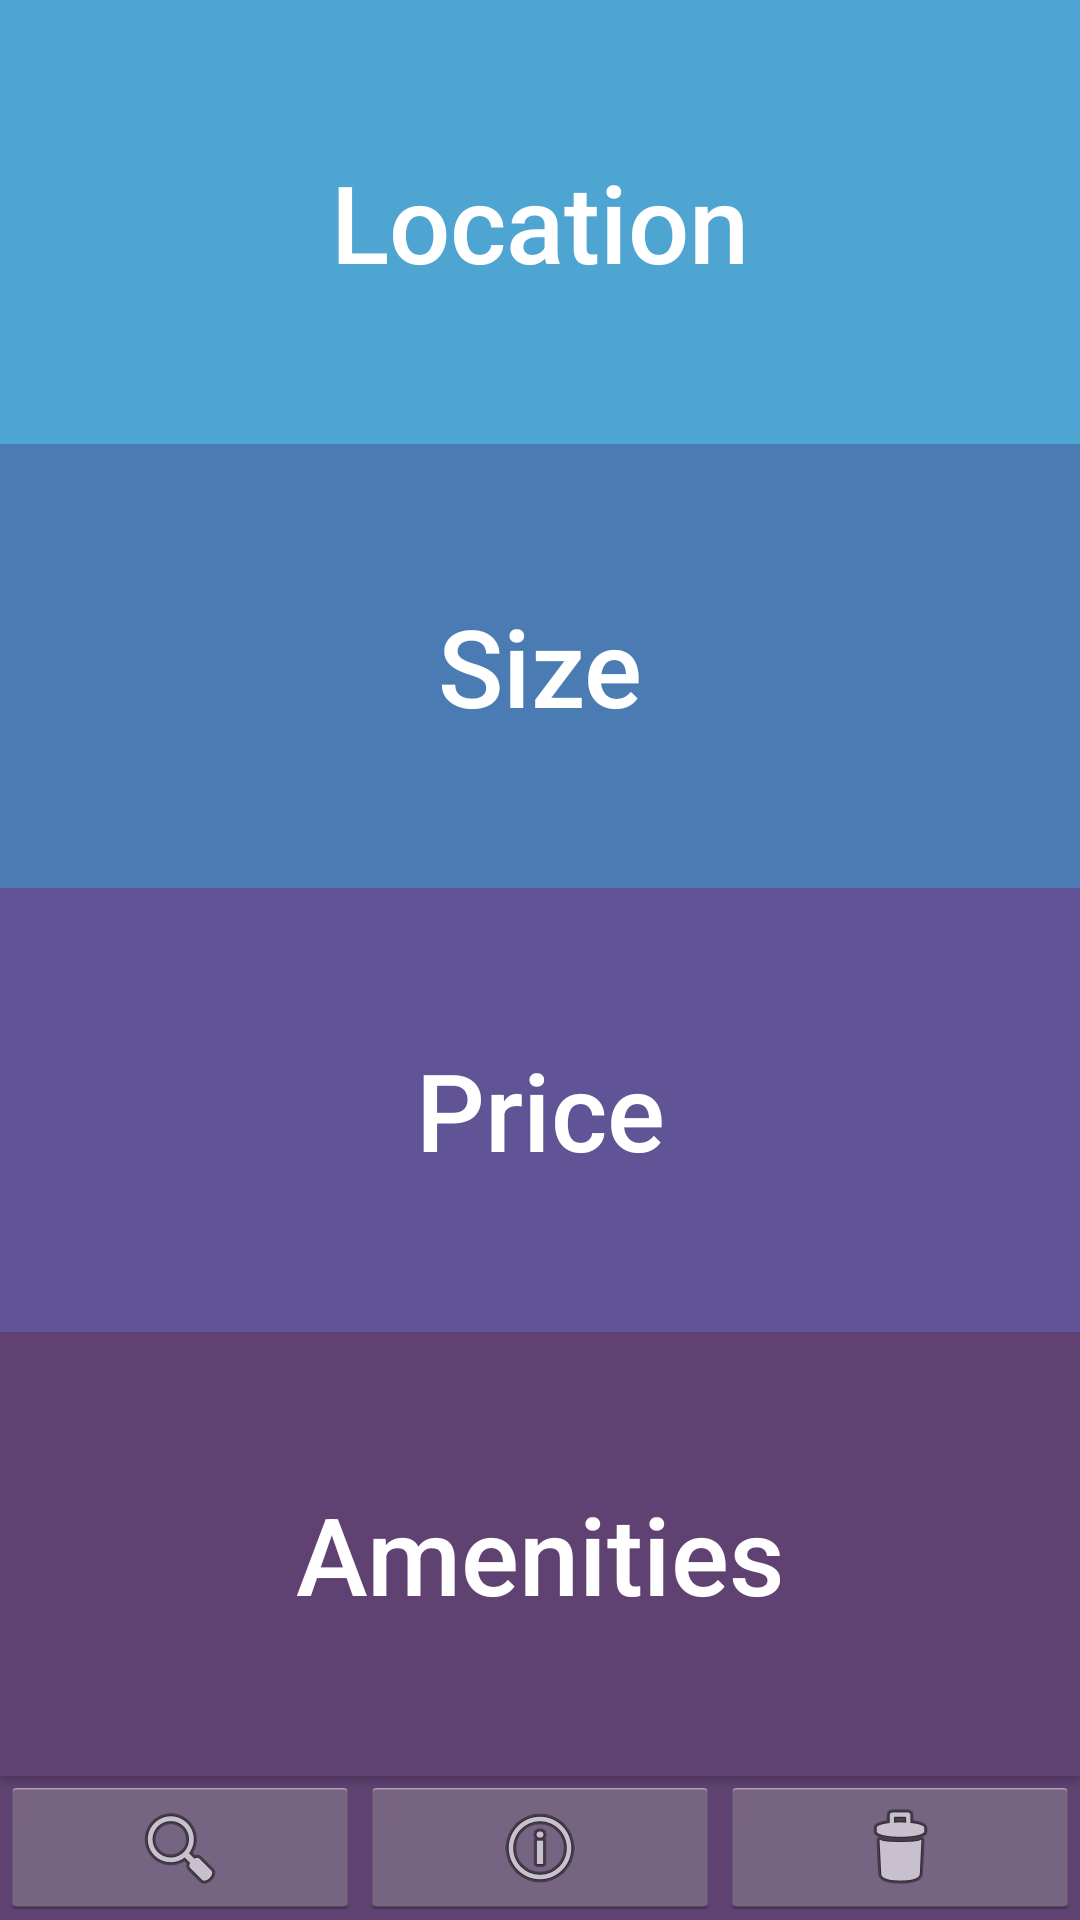

Icon click points for this 1080×1920 phone screenshot, format (x=x, y=y):
delete: (x=900, y=1848)
info details: (x=540, y=1848)
search: (x=180, y=1848)
